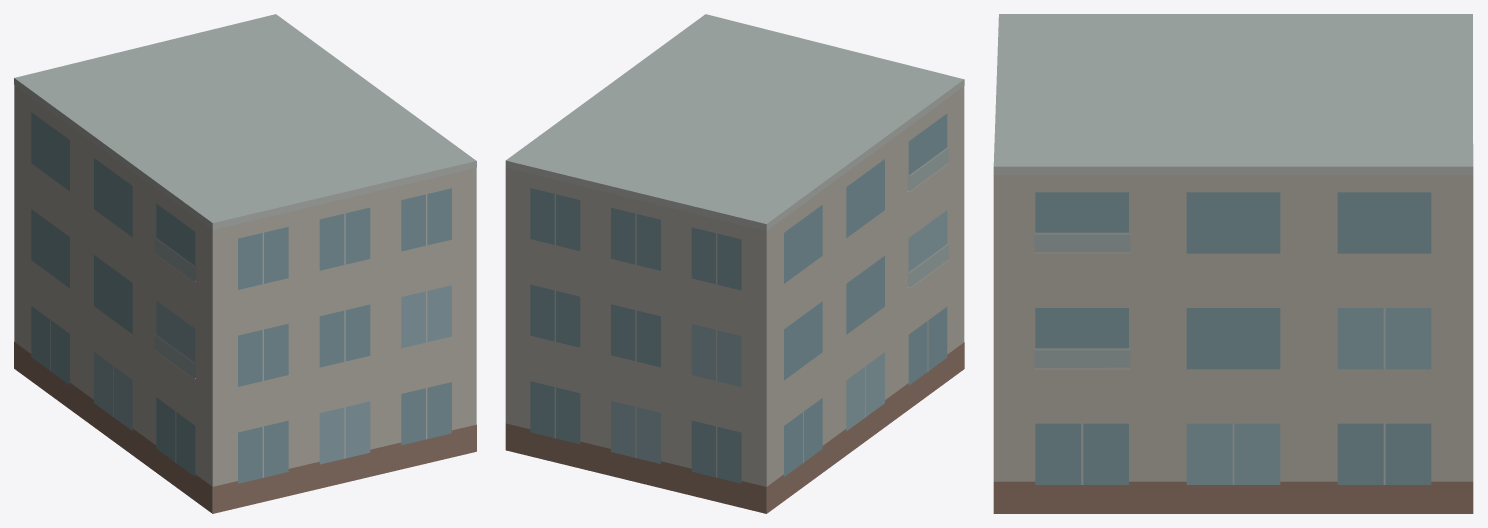
Rendered from survey-upis-32837356.glb.
3 views of the same model, side by side, from view 1: azimuth 30°, elevation 25°; view 2: azimuth 150°, elevation 25°; view 3: azimuth 270°, elevation 25° (orthographic). The views are drawn at different scales.
Parts seen in each view (by area): view 1: survey-upis-32837356.tmp; view 2: survey-upis-32837356.tmp; view 3: survey-upis-32837356.tmp.
Boxes of the visible parts, x1,y1,x2,y2 form: survey-upis-32837356.tmp: (14, 14, 476, 513); survey-upis-32837356.tmp: (505, 14, 964, 513); survey-upis-32837356.tmp: (993, 14, 1473, 513).
Size of the model in its own units: 9.79 by 10.3 by 12.91.
